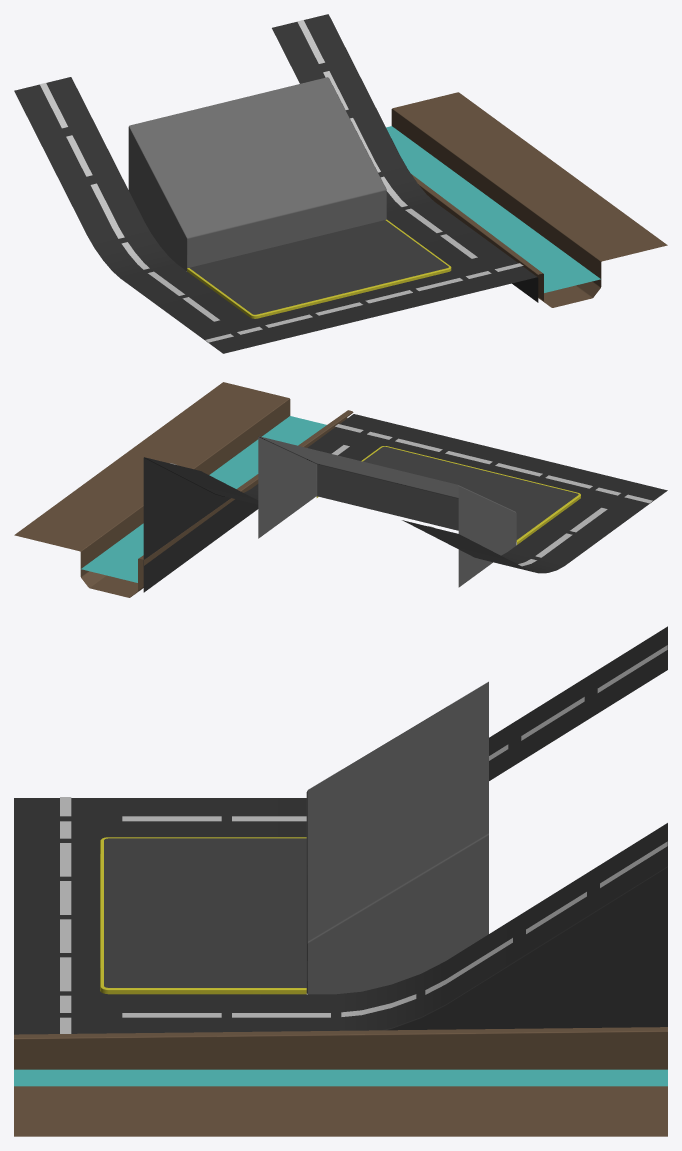
The model's file is Escenario.glb.
3 renders of one model, top to bottom at view 1: azimuth 30°, elevation 25°; view 2: azimuth 150°, elevation 25°; view 3: azimuth 270°, elevation 25°, orthographic. The views are drawn at different scales.
Parts seen in each view (by area): view 1: Pared, Calle, Canal, PlayZone, Agua, Calle.001; view 2: Calle, Canal, Pared, PlayZone, Agua, Calle.001; view 3: Calle, Canal, Pared, PlayZone, Agua, Calle.001.
Boxes of the visible parts, x1,y1,x2,y2 form: Pared: [128, 77, 386, 270]; Calle: [14, 14, 538, 353]; Canal: [391, 92, 667, 307]; PlayZone: [187, 219, 451, 318]; Agua: [386, 126, 600, 292]; Calle.001: [40, 20, 523, 342]; Calle: [143, 414, 667, 592]; Canal: [14, 382, 353, 597]; Pared: [258, 436, 516, 587]; PlayZone: [316, 446, 580, 544]; Agua: [81, 416, 326, 582]; Calle.001: [170, 424, 652, 566]; Calle: [14, 626, 667, 1034]; Canal: [14, 1027, 667, 1136]; Pared: [306, 681, 488, 994]; PlayZone: [100, 837, 306, 994]; Agua: [14, 1069, 667, 1086]; Calle.001: [60, 645, 667, 1033].
Bounding box in the file's own units: 46.59 × 14.51 × 38.
